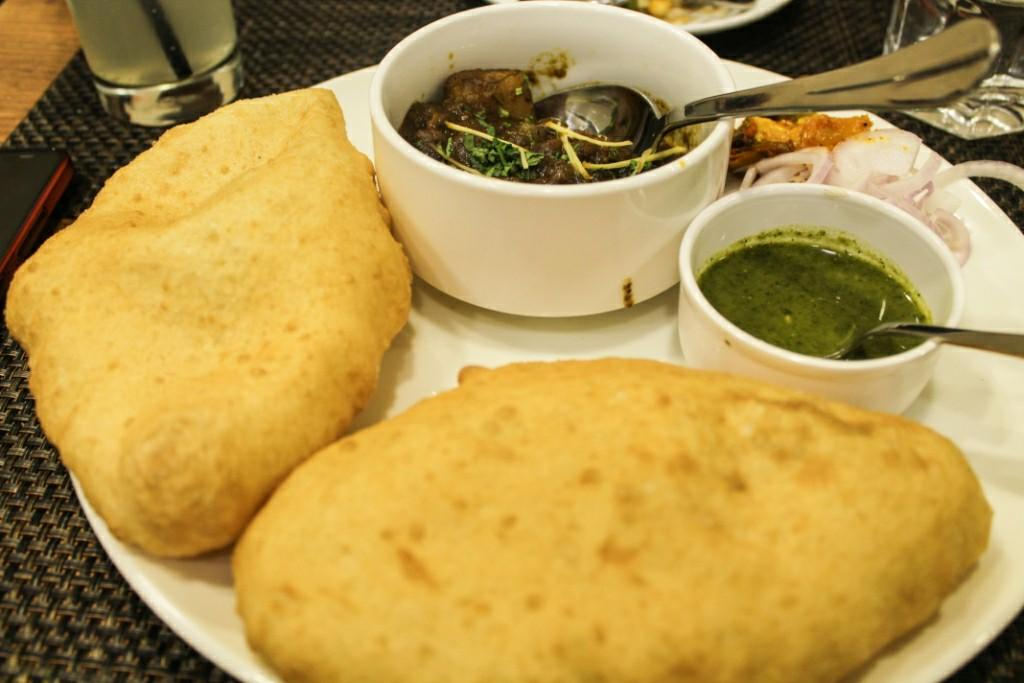Bhatura: (230, 357, 995, 683), (6, 88, 413, 556)
Chole: (400, 68, 691, 184)
GreenChutney: (695, 240, 927, 360)
